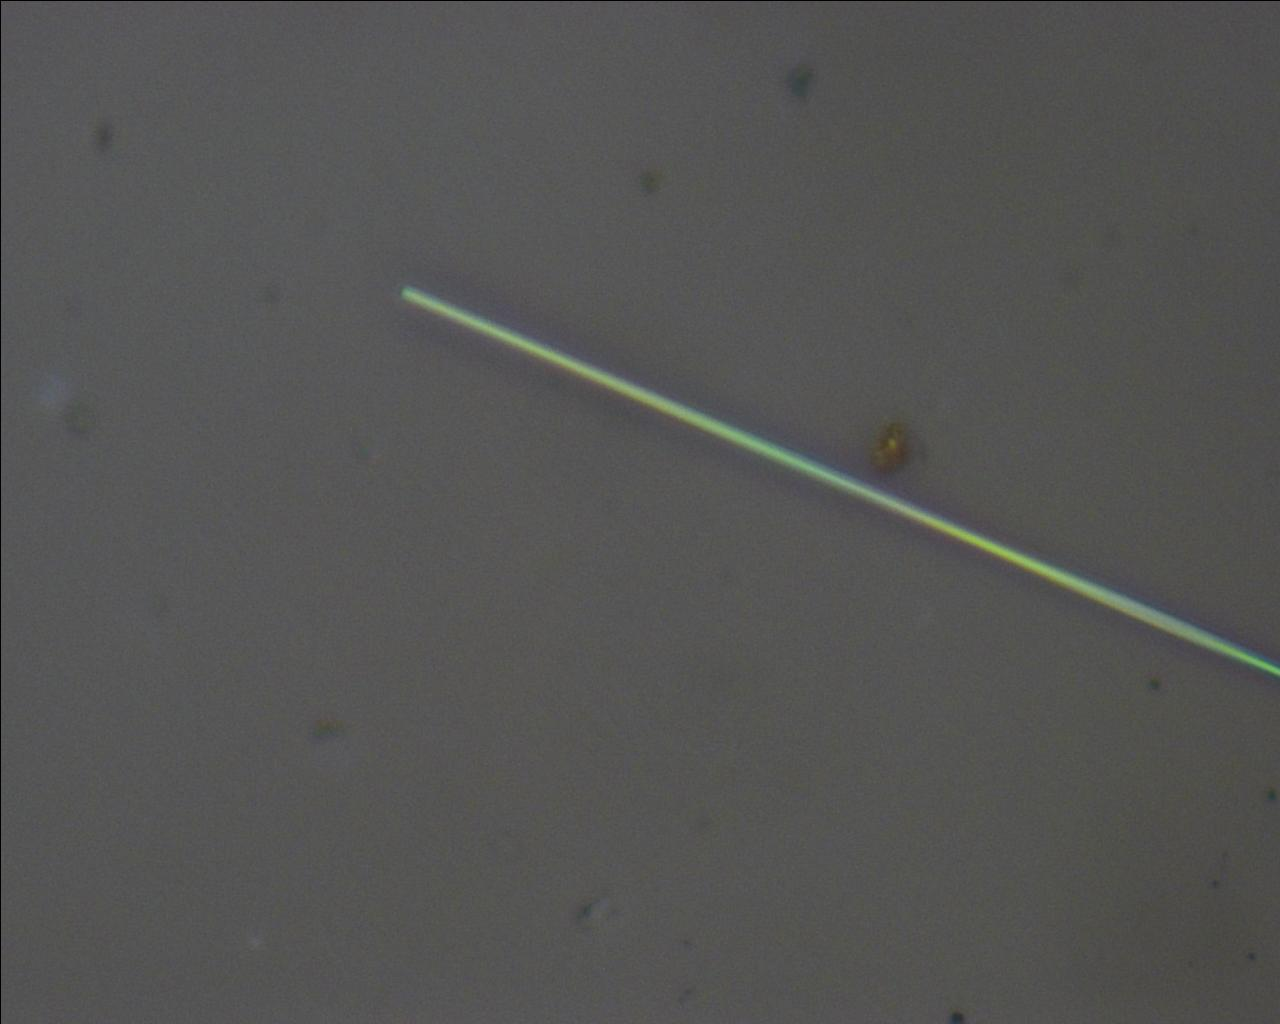fiber: (400, 287, 1280, 682)
